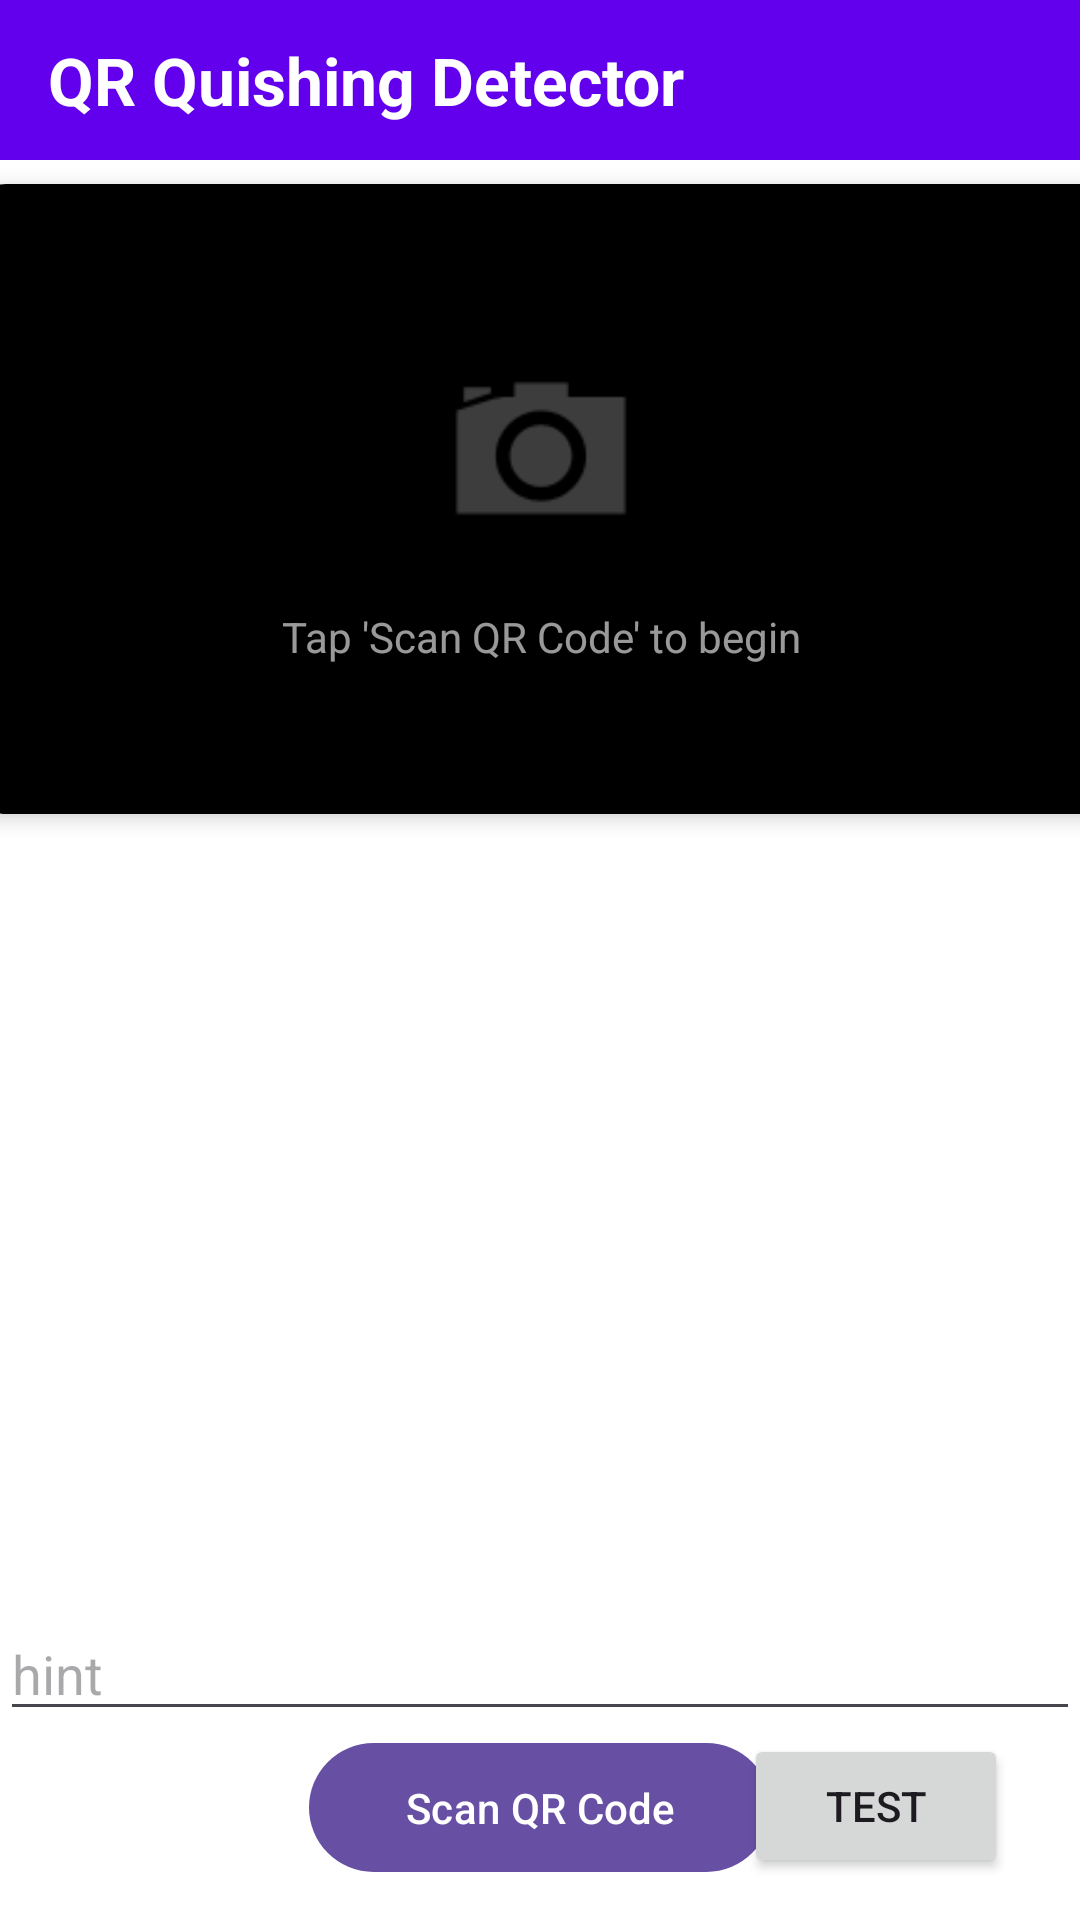

Locate icon controls on the screen. Image size 1080px x 1920px, boxes as (x1,y1,x2,y2).
Camera icon: (456,382,626,514)
